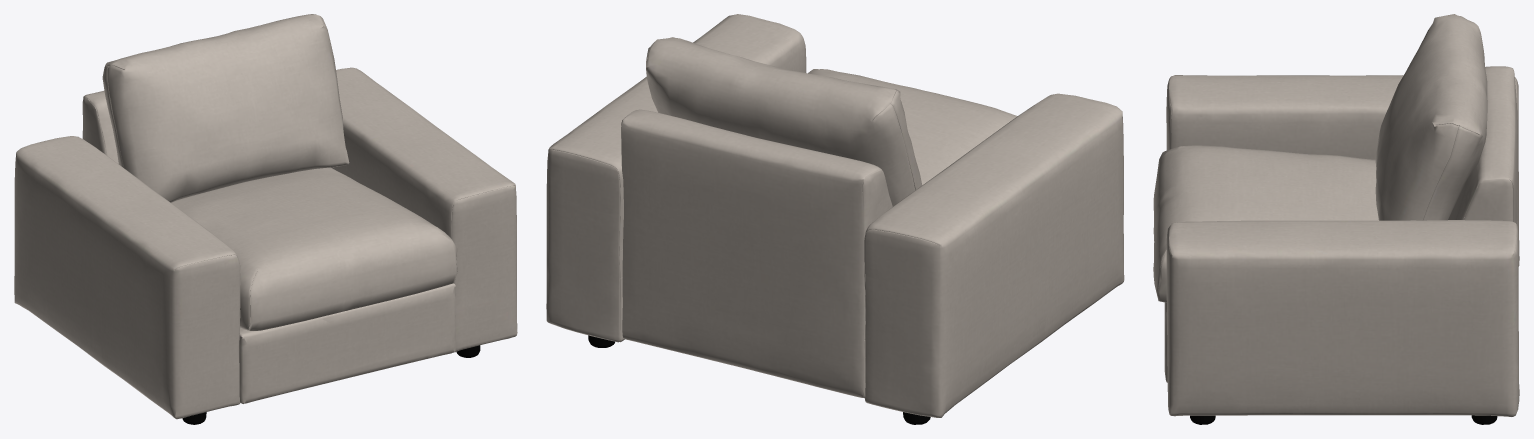
The model's file is vimle_fotel_79477179.glb.
The picture shows the model from 3 angles, left to right: view 1: azimuth 30°, elevation 25°; view 2: azimuth 150°, elevation 25°; view 3: azimuth 270°, elevation 25°; orthographic projection. The views are drawn at different scales.
Parts seen in each view (by area): view 1: vimle_fotel_79477179; view 2: vimle_fotel_79477179; view 3: vimle_fotel_79477179.
Boxes of the visible parts, <box> form: vimle_fotel_79477179: <box>14,14,517,424</box>; vimle_fotel_79477179: <box>546,14,1124,424</box>; vimle_fotel_79477179: <box>1153,14,1519,424</box>.
Size of the model in its own units: 1.16 by 0.8398 by 0.9791.
Materials: 1 (1 with a texture image).
